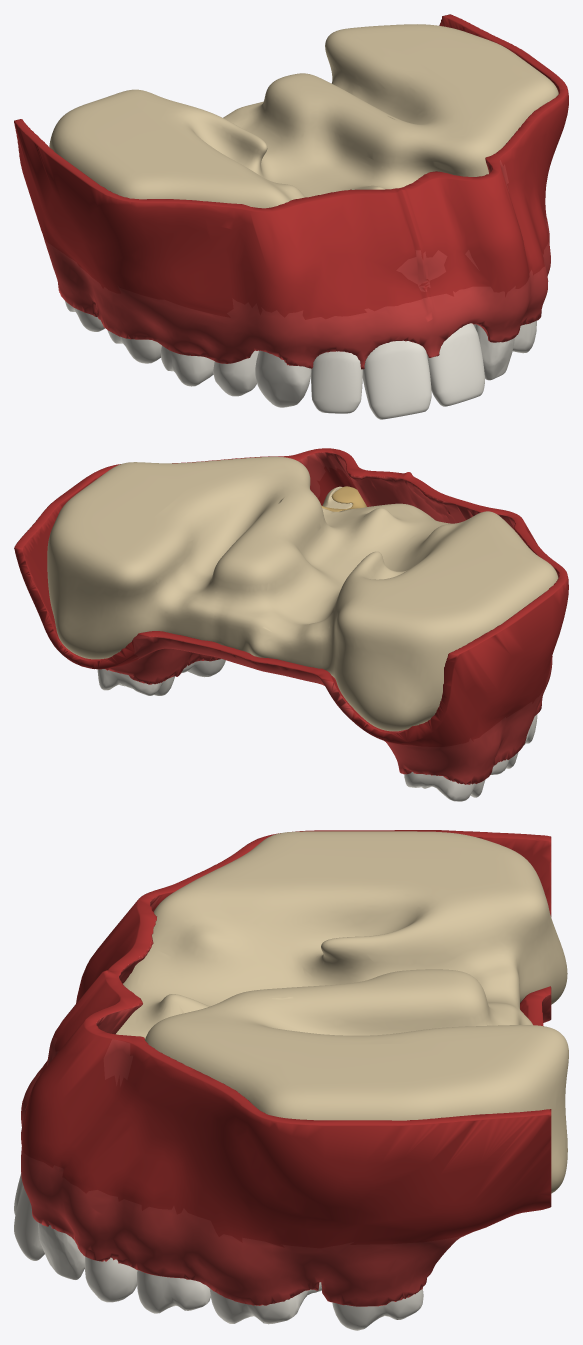
The model's file is abg-3b-substitution.glb.
3 renders of one model, top to bottom at view 1: azimuth 30°, elevation 25°; view 2: azimuth 150°, elevation 25°; view 3: azimuth 270°, elevation 25°, orthographic. The views are drawn at different scales.
Visible parts, largest first — view 1: soft-tissue, bone, teeth; view 2: bone, soft-tissue, teeth, graft; view 3: bone, soft-tissue, teeth.
Boxes of the visible parts, <box> form: soft-tissue: <box>14,14,568,369</box>; bone: <box>49,24,558,208</box>; teeth: <box>64,300,536,419</box>; bone: <box>47,456,558,731</box>; soft-tissue: <box>14,448,568,784</box>; teeth: <box>97,501,537,801</box>; graft: <box>321,486,366,511</box>; bone: <box>116,831,568,1193</box>; soft-tissue: <box>21,830,551,1306</box>; teeth: <box>14,1173,423,1330</box>.
Size of the model in its own units: 0.1011 by 0.0433 by 0.0802.
